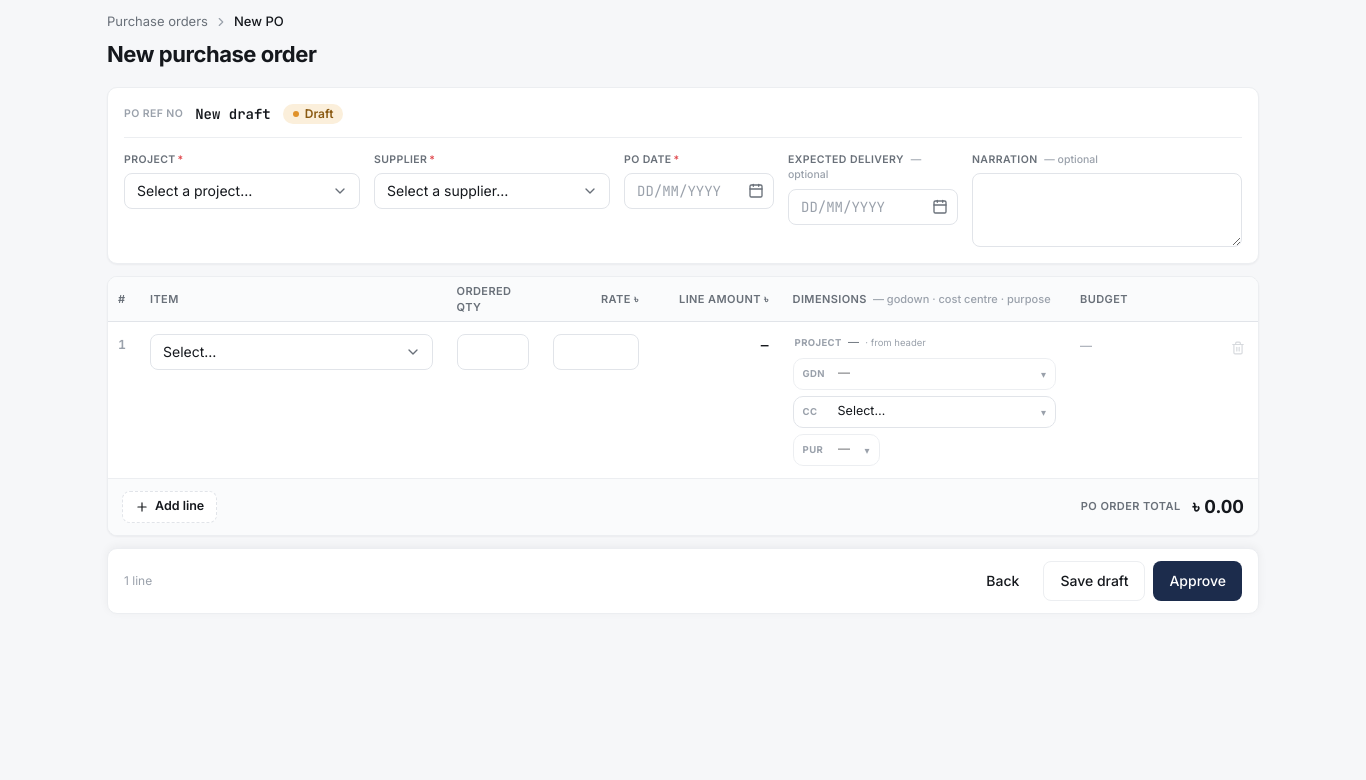
Test: PoEditor (spec §4.editor/§6/§7; FR-PUR-001/-002/-024) › validates a non-positive quantity + missing required fields with the exact copy (FR-PUR-001)
Expected: the heading "New purchase order" is shown, [107, 38, 316, 70]
Click the button with test id "po-save" at (1094, 580), box [1043, 560, 1145, 600]
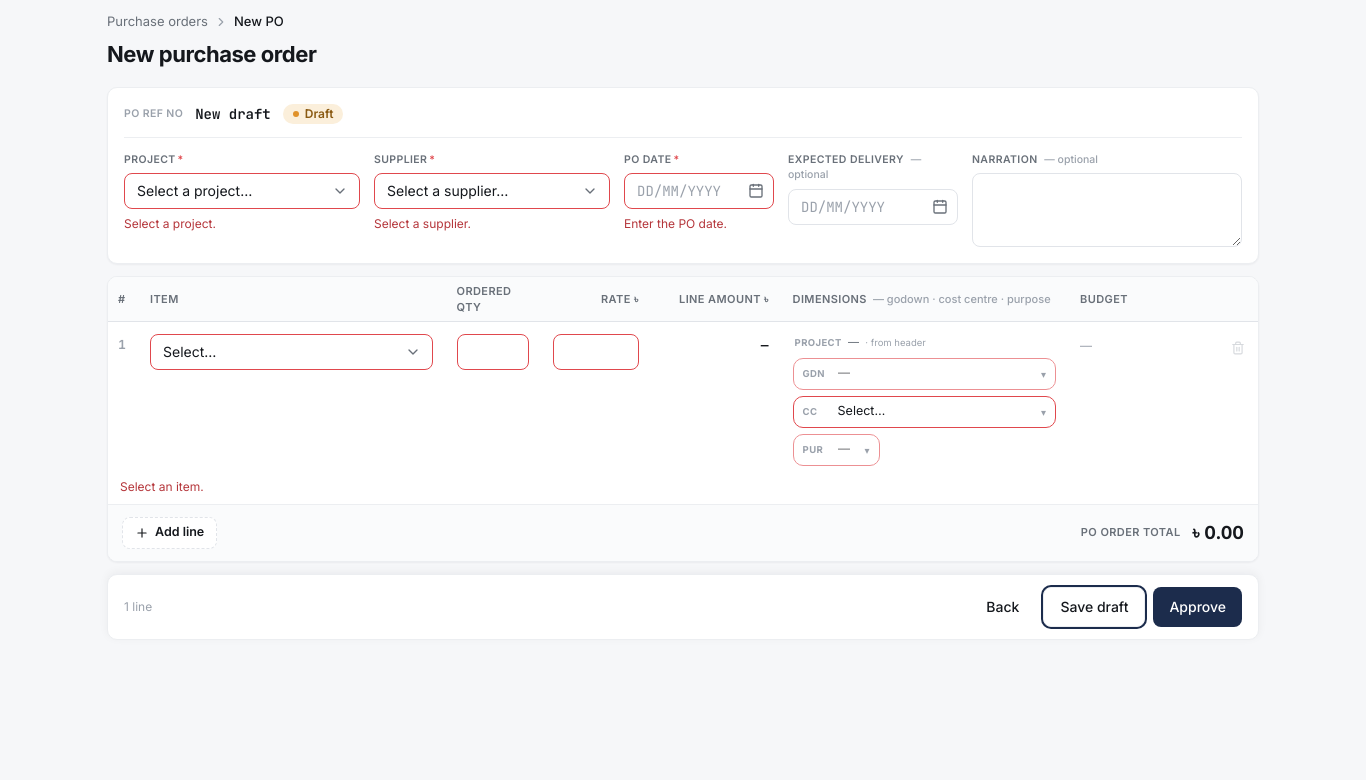
Now the text "Select a project." is shown, box [124, 216, 216, 231]
Now the text "Select a supplier." is shown, box [374, 216, 471, 231]
Now the text "Enter the PO date." is shown, box [624, 216, 727, 231]
